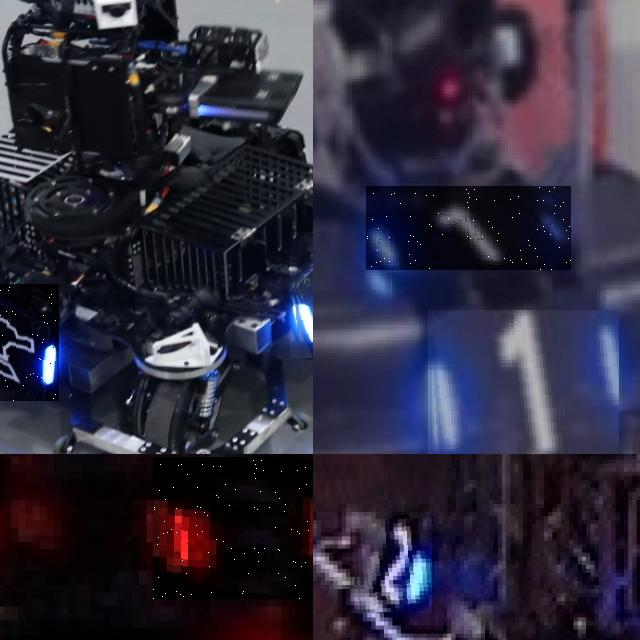B1: (428, 309, 619, 454), (367, 186, 572, 270)
B2: (352, 512, 432, 613)
Bs: (0, 284, 59, 400), (289, 232, 313, 358)
R3: (153, 457, 313, 599)
